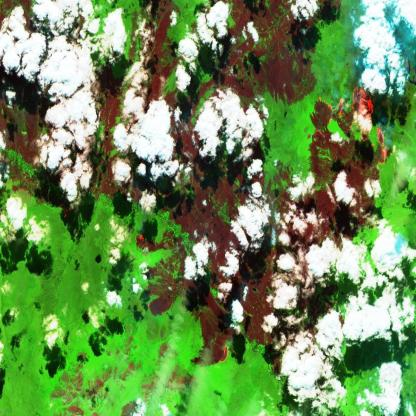fire: (314, 85, 392, 170), (131, 225, 147, 254), (216, 345, 230, 367)
